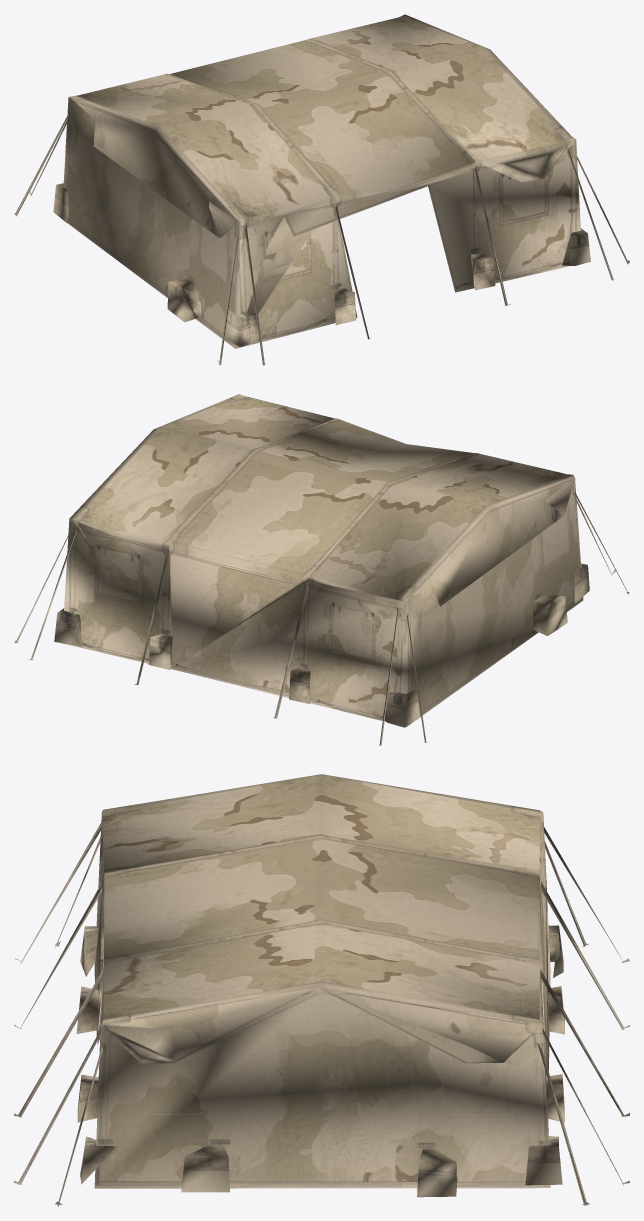
Rendered from BasicTent.fbx.
3 renders of one model, top to bottom at view 1: azimuth 30°, elevation 25°; view 2: azimuth 150°, elevation 25°; view 3: azimuth 270°, elevation 25°, orthographic. The views are drawn at different scales.
Parts seen in each view (by area): view 1: Mesh_0; view 2: Mesh_0; view 3: Mesh_0.
Boxes of the visible parts, left/top/right/bottom form: Mesh_0: left=14, top=14, right=629, bottom=365; Mesh_0: left=14, top=394, right=629, bottom=745; Mesh_0: left=14, top=774, right=629, bottom=1206.
Size of the model in its own units: 100 by 36.43 by 100.
Materials: 1 (1 with a texture image).
